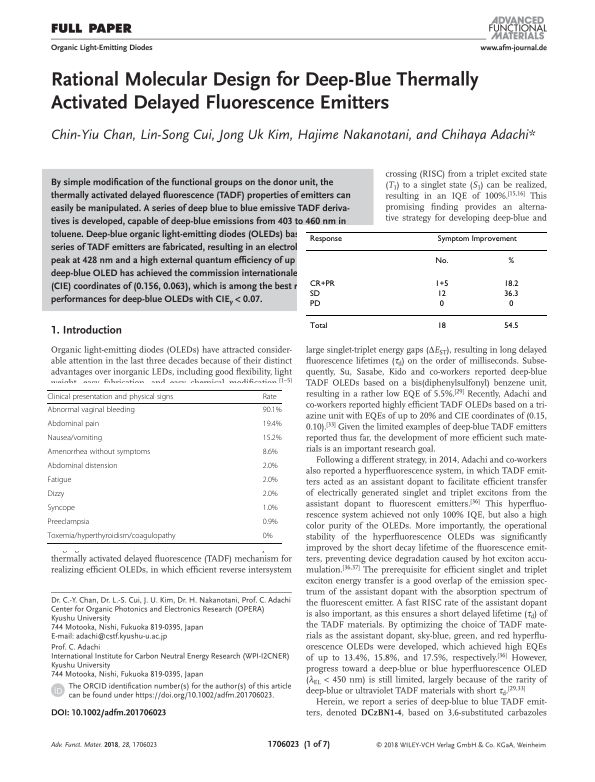borderless: (46, 388, 282, 543), (304, 230, 548, 339)
cell: (46, 531, 176, 541), (47, 392, 174, 401), (47, 447, 151, 457), (47, 405, 136, 415), (436, 235, 517, 244), (47, 461, 119, 471), (47, 433, 103, 443), (47, 419, 100, 429), (47, 517, 90, 527), (308, 235, 342, 244), (47, 503, 76, 513), (308, 279, 335, 289), (47, 475, 72, 485), (262, 405, 282, 415), (262, 419, 282, 429), (262, 433, 282, 443), (308, 322, 328, 331), (47, 489, 65, 499), (262, 447, 279, 457), (262, 461, 279, 471), (262, 475, 279, 485), (262, 489, 279, 499), (262, 503, 279, 513), (262, 517, 279, 527), (503, 279, 519, 289), (503, 289, 519, 299), (434, 279, 449, 289), (503, 322, 519, 331), (262, 392, 278, 401), (434, 257, 449, 266), (308, 289, 320, 299), (308, 300, 321, 309), (262, 531, 273, 541), (436, 289, 446, 299), (436, 322, 446, 331), (507, 257, 515, 266), (438, 300, 444, 309), (508, 300, 514, 309)
